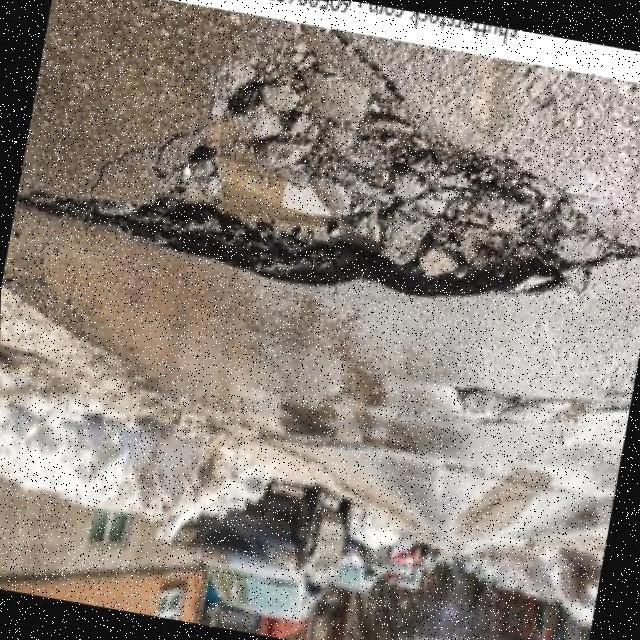Pothole: (18, 69, 639, 297)
